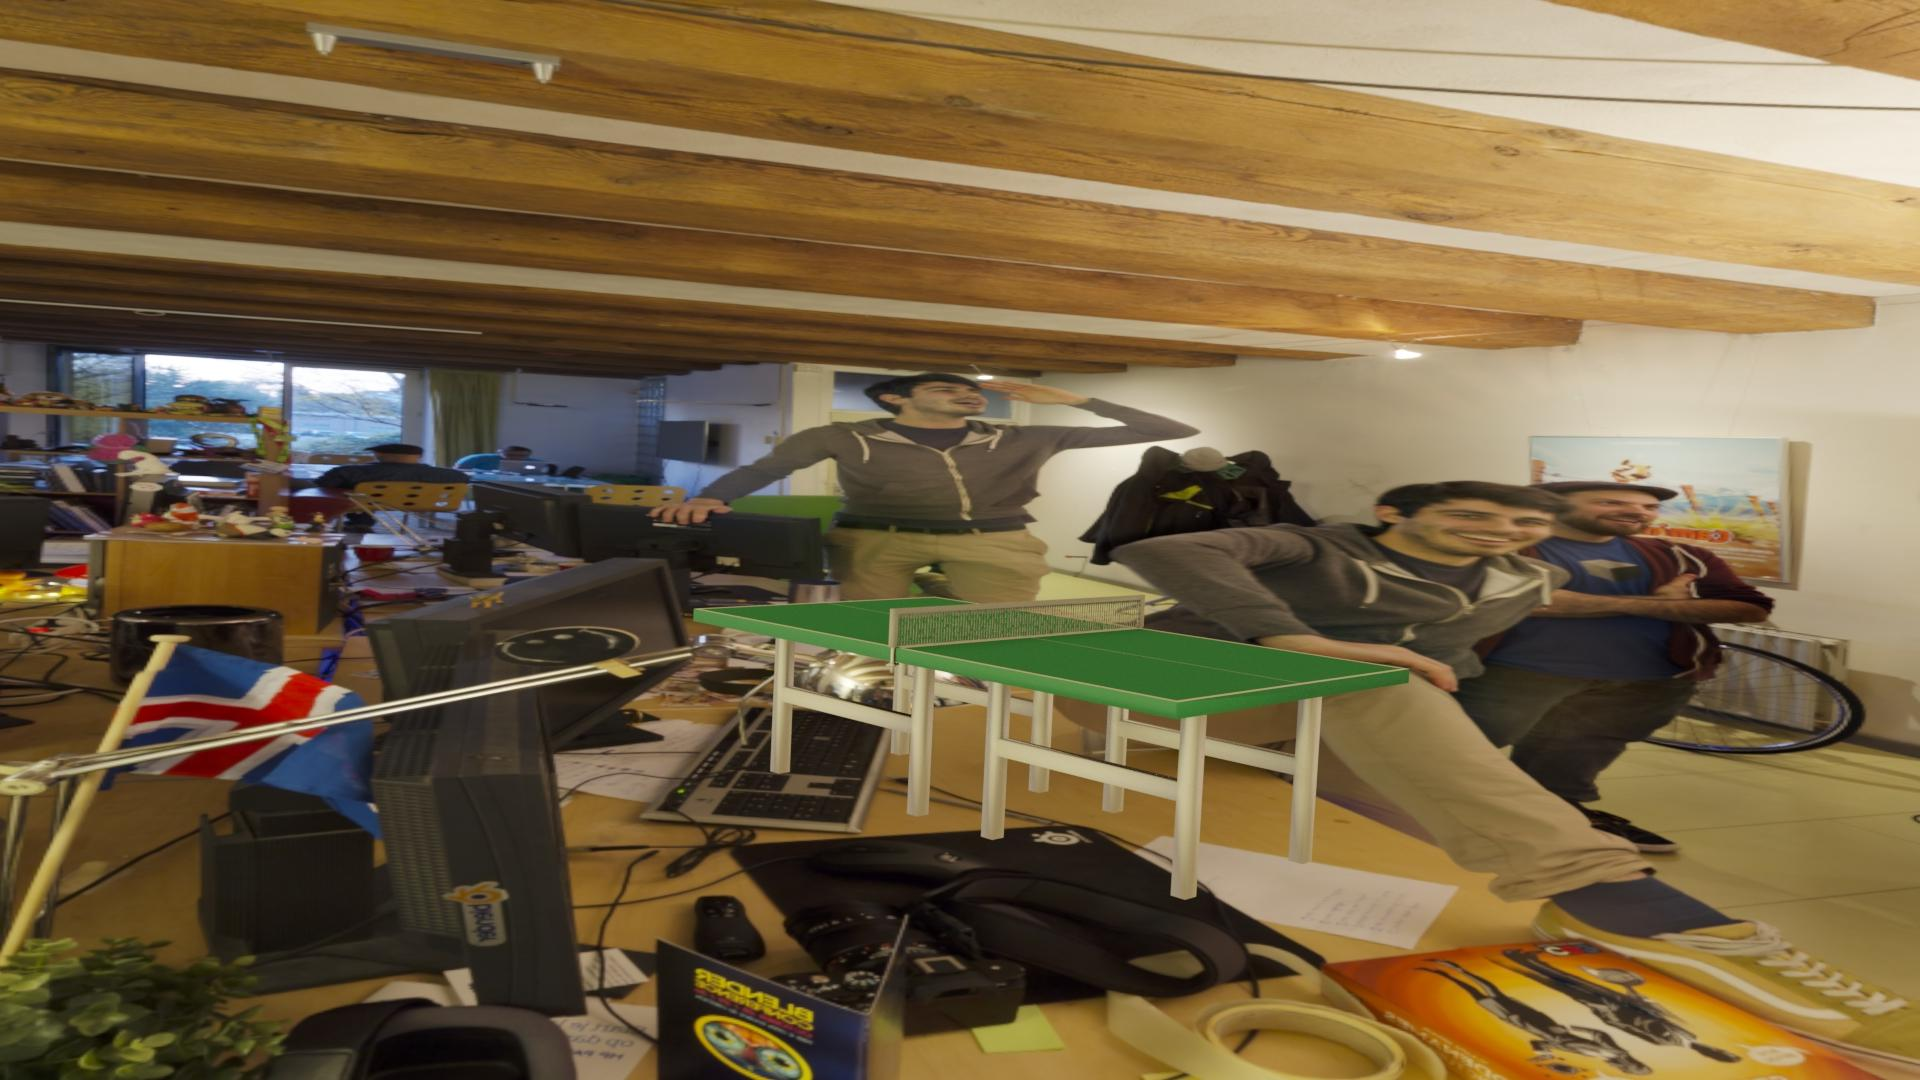table: (700, 597, 1403, 700)
